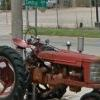Tractor: (7, 28, 100, 100)
